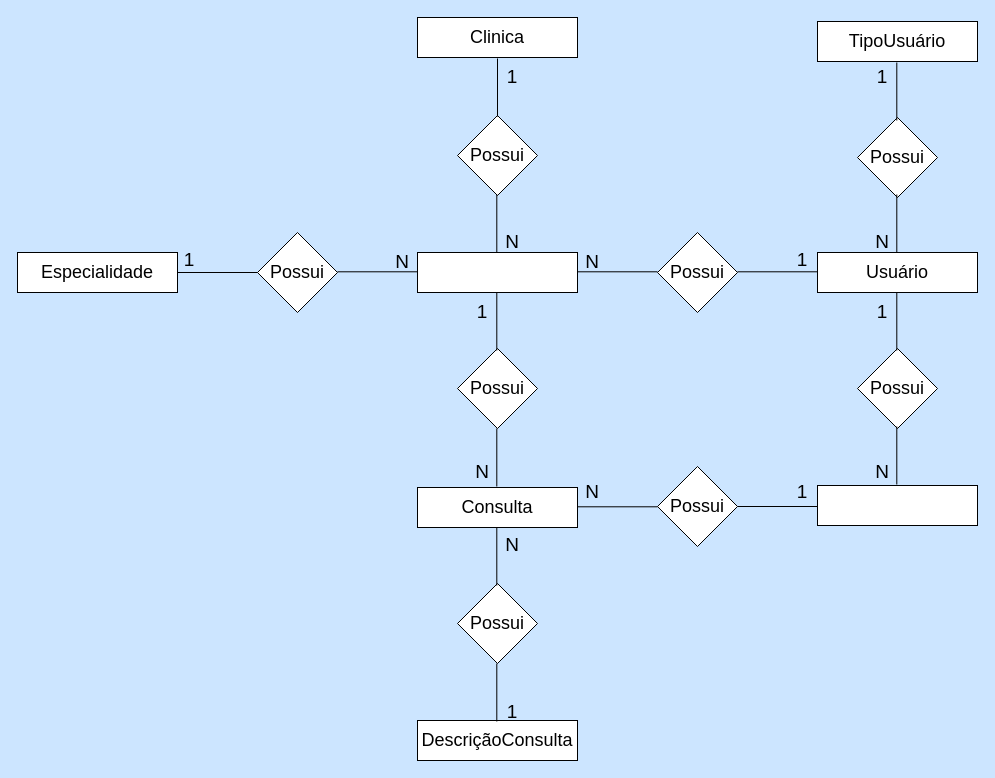
Image size: 995x778. Some labels were removed from this diagram. The centre of each missing label's shape, as x and y in pixels:
Médico: the point at 497,272
Paciente: the point at 897,505
